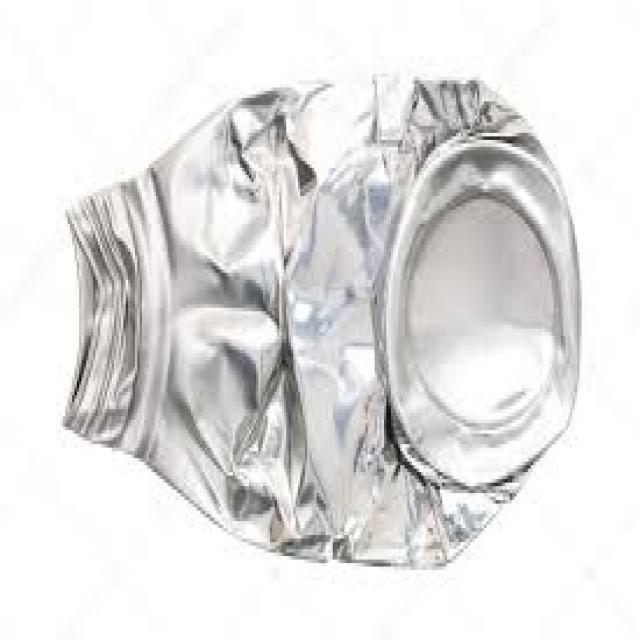recyclable: (59, 73, 581, 561)
